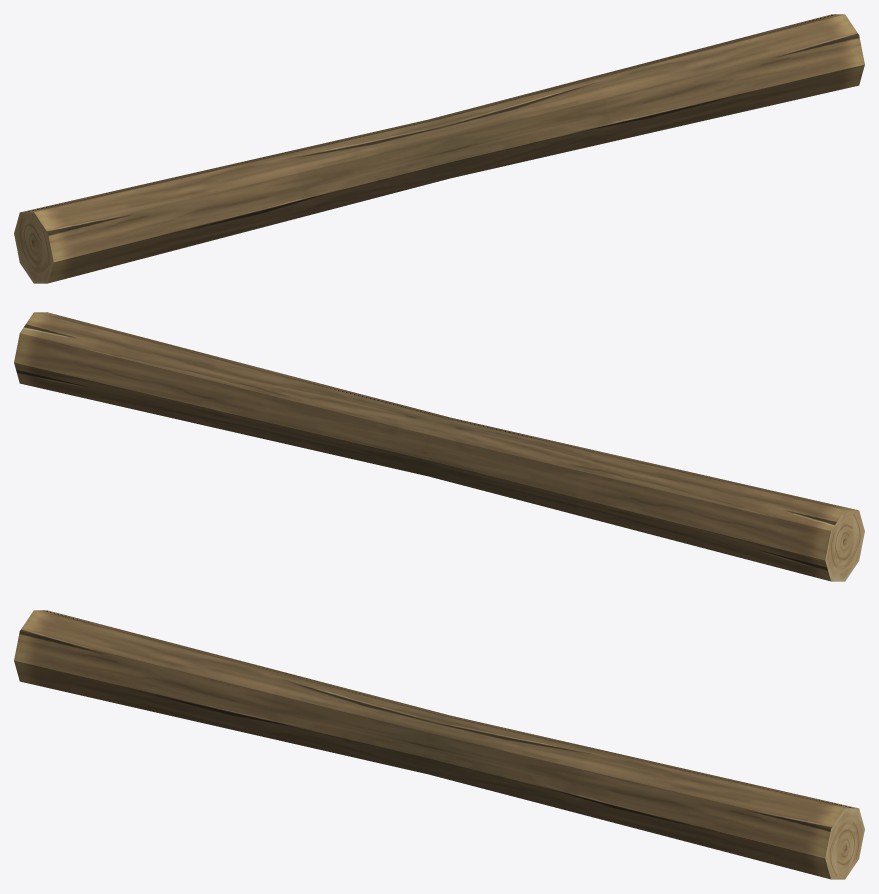
3 renders of one model, top to bottom at view 1: azimuth 30°, elevation 25°; view 2: azimuth 150°, elevation 25°; view 3: azimuth 330°, elevation 25°, orthographic.
Visible parts, largest first — view 1: part_08b:Mesh; view 2: part_08b:Mesh; view 3: part_08b:Mesh.
Part boxes in pixels (x1=…): part_08b:Mesh: x1=14, y1=14, x2=864, y2=283; part_08b:Mesh: x1=14, y1=312, x2=864, y2=581; part_08b:Mesh: x1=14, y1=610, x2=864, y2=879.
Size of the model in its own units: 6.75 by 0.5682 by 0.5734.
